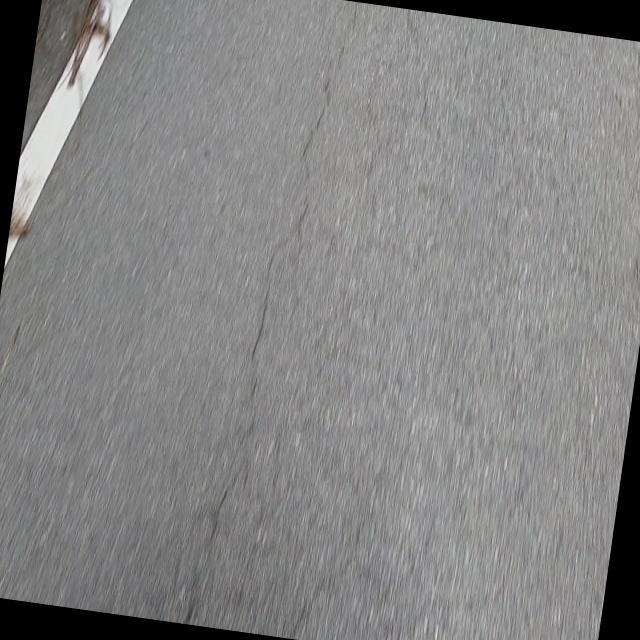Retak-Memanjang: (252, 81, 333, 359)
